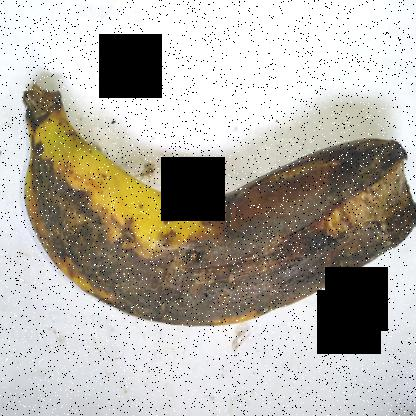rotten: (22, 120, 415, 336)
